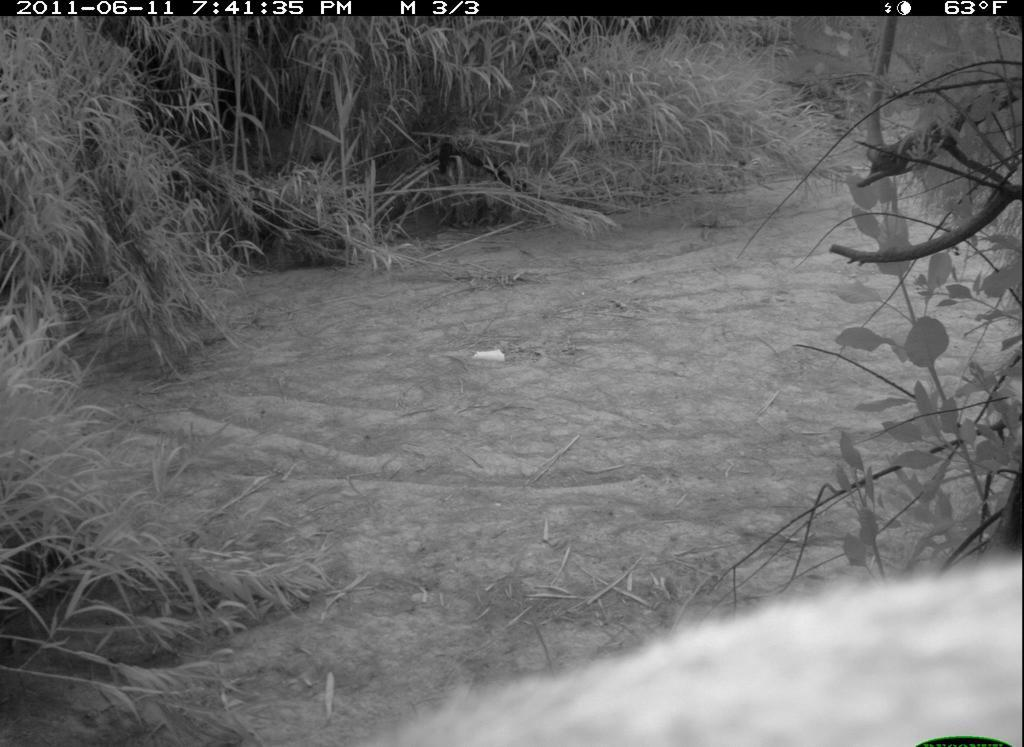bobcat: (341, 550, 1022, 747)
